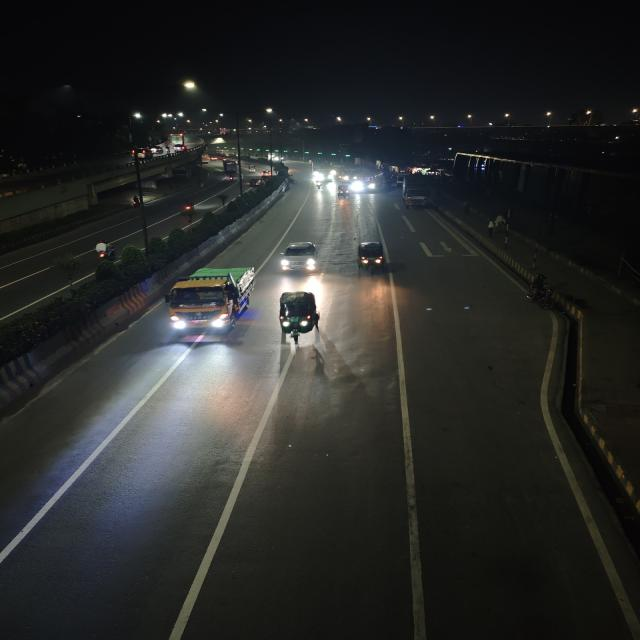bus: (354, 172, 382, 193), (313, 166, 334, 183), (343, 167, 360, 183), (223, 157, 238, 173)
car: (277, 240, 322, 274), (131, 148, 155, 160), (173, 143, 190, 154), (250, 178, 262, 187), (152, 145, 163, 154), (260, 170, 272, 178)
cng: (267, 282, 329, 362), (350, 237, 395, 273), (333, 183, 353, 200), (248, 164, 258, 174)
motorcycle: (520, 278, 557, 311), (91, 242, 120, 262), (180, 200, 198, 216), (228, 174, 238, 184), (164, 144, 171, 154)
truck: (162, 263, 256, 349), (399, 177, 434, 210), (169, 134, 185, 146)
